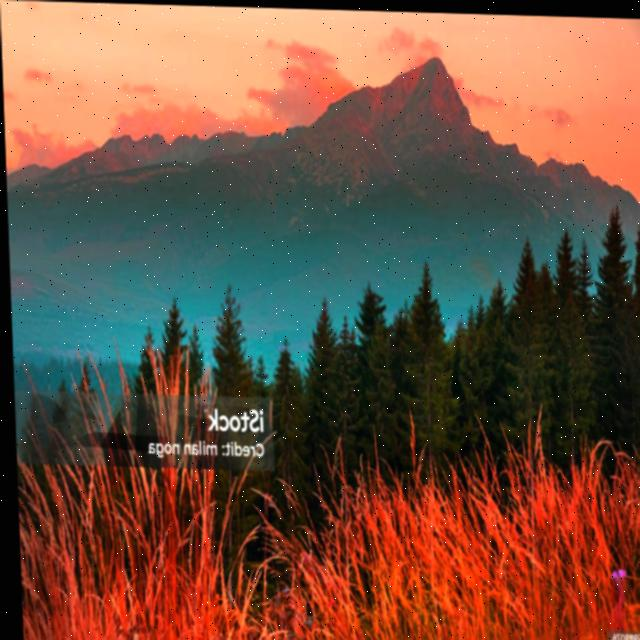Krivan: (388, 11, 489, 115)
